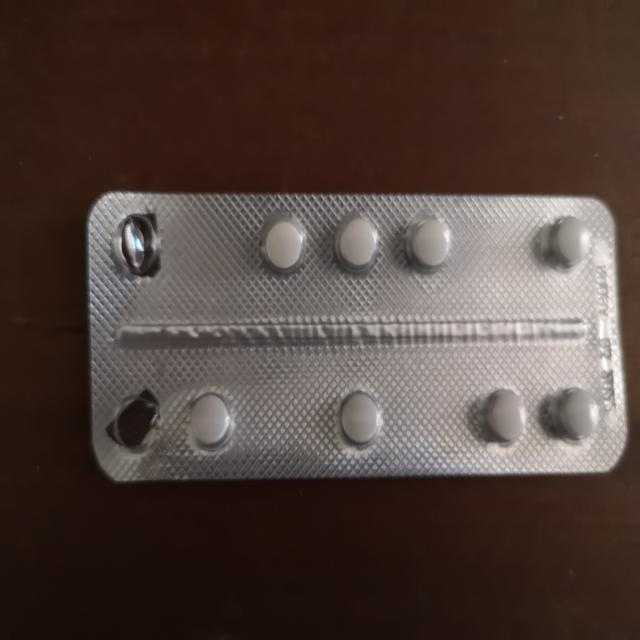Empty: (108, 381, 165, 456), (112, 207, 167, 284)
Pill: (256, 208, 310, 278), (330, 385, 388, 450), (400, 209, 455, 276), (182, 382, 234, 452), (480, 380, 530, 450), (551, 379, 602, 445), (330, 209, 380, 275), (545, 211, 594, 271)
